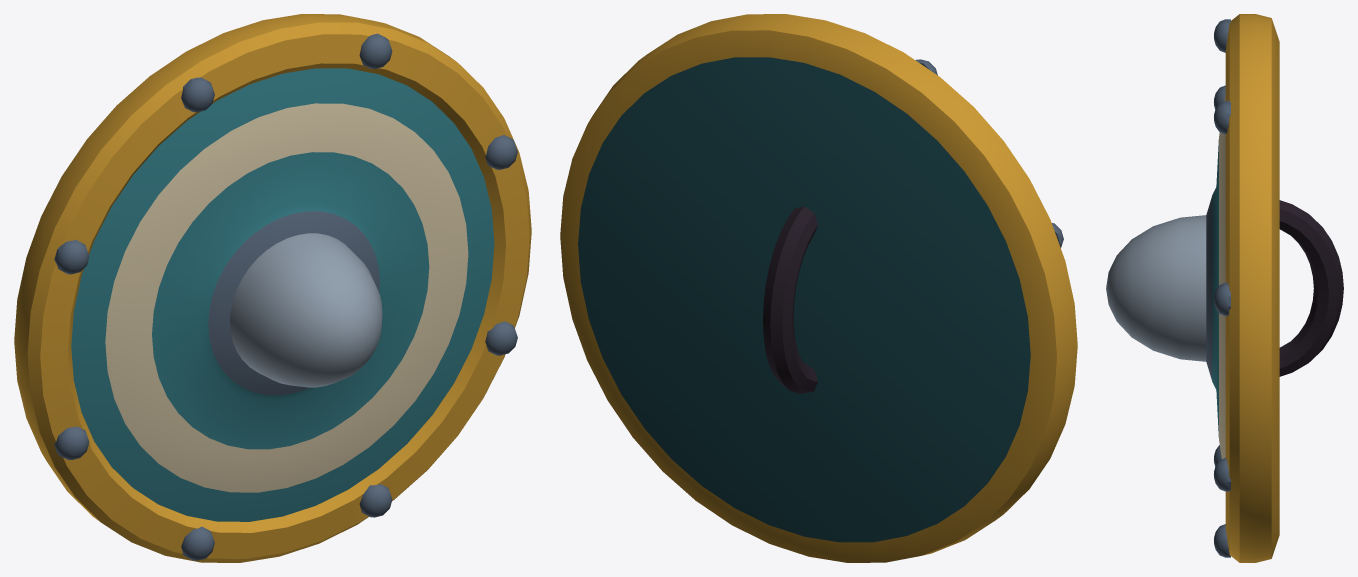
Rendered from RoundShield_12.glb.
The picture shows the model from 3 angles, left to right: view 1: azimuth 30°, elevation 25°; view 2: azimuth 150°, elevation 25°; view 3: azimuth 270°, elevation 25°; orthographic projection. The views are drawn at different scales.
Visible parts, largest first — view 1: RoundShield_12; view 2: RoundShield_12; view 3: RoundShield_12.
Boxes of the visible parts, x1=… form: RoundShield_12: x1=14, y1=14, x2=531, y2=562; RoundShield_12: x1=560, y1=14, x2=1077, y2=562; RoundShield_12: x1=1106, y1=14, x2=1343, y2=562.
Size of the model in its own units: 2.74 by 2.74 by 1.19.
